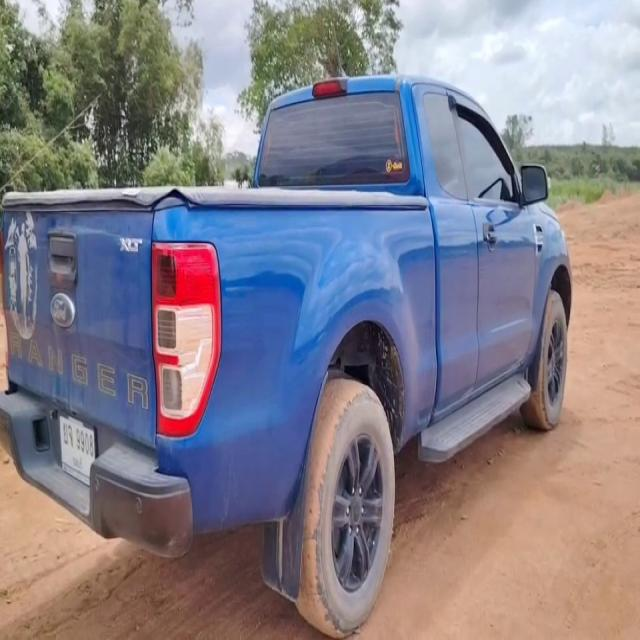Digit: (74, 427, 95, 461)
Licenseplate: (59, 412, 98, 489)
Provincename: (71, 453, 85, 474)
Thaichar: (62, 421, 74, 449)
